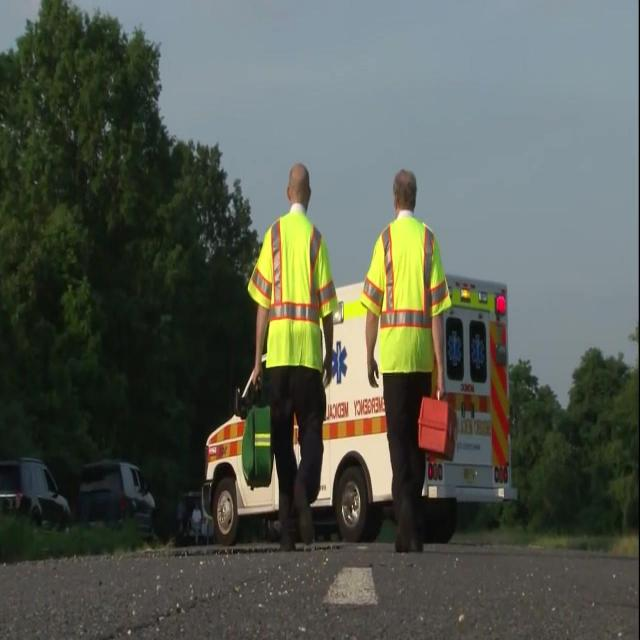Reflective-Jacket: (241, 208, 343, 399), (357, 212, 457, 394)
